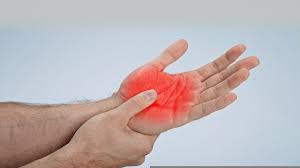palm: (125, 74, 200, 127)
